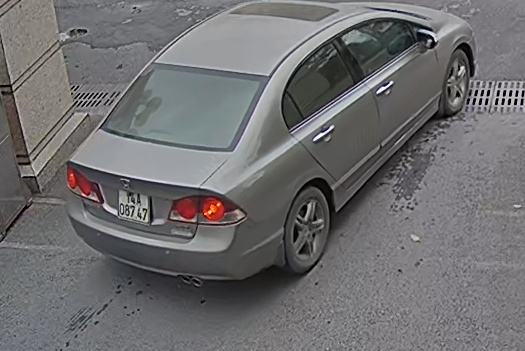vehicle plate: (119, 186, 153, 224)
